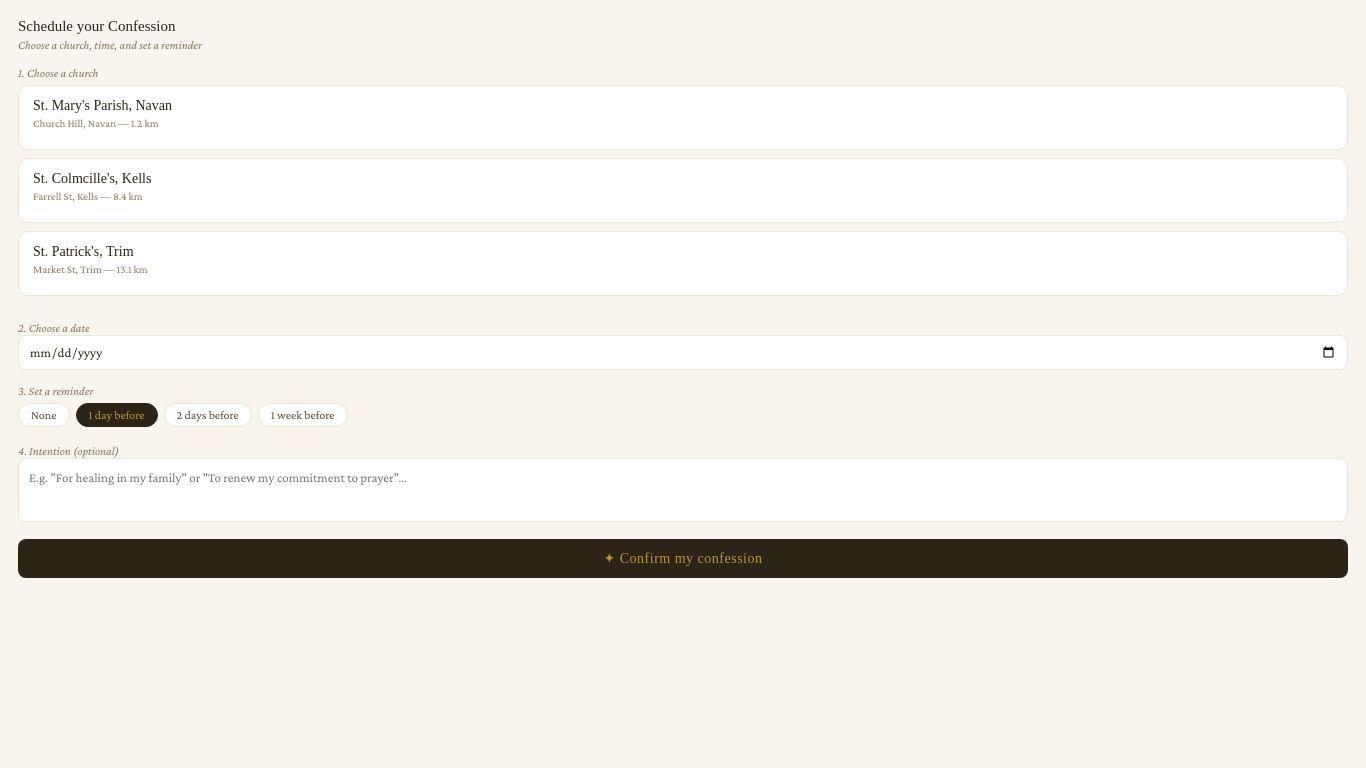
Test case: ScheduleScreen › shows error when confirming without a confession time slot
Click the text "St. Mary's Parish, Navan". click: click(102, 106)
box: x1=33 y1=98 x2=172 y2=113
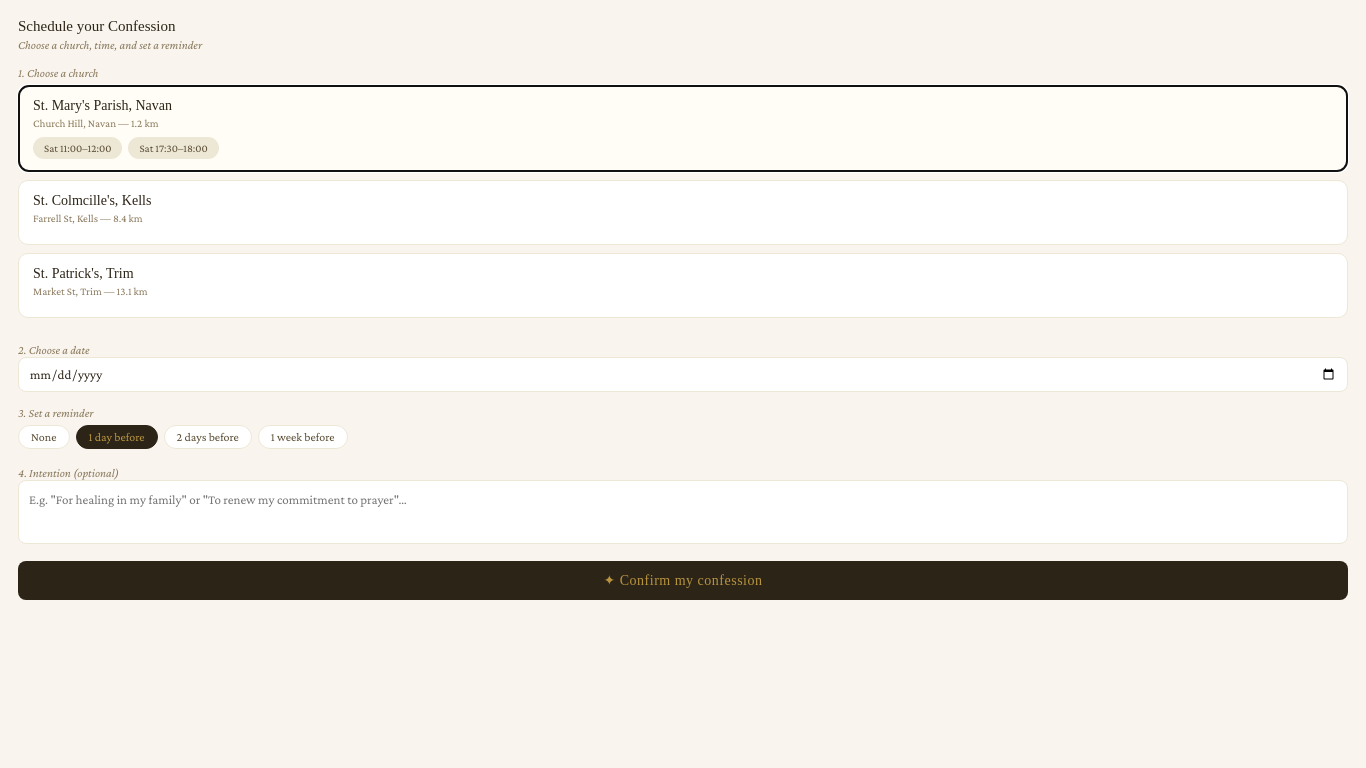
Click the button "✦ Confirm my confession". click: click(683, 580)
box: x1=18 y1=561 x2=1348 y2=600
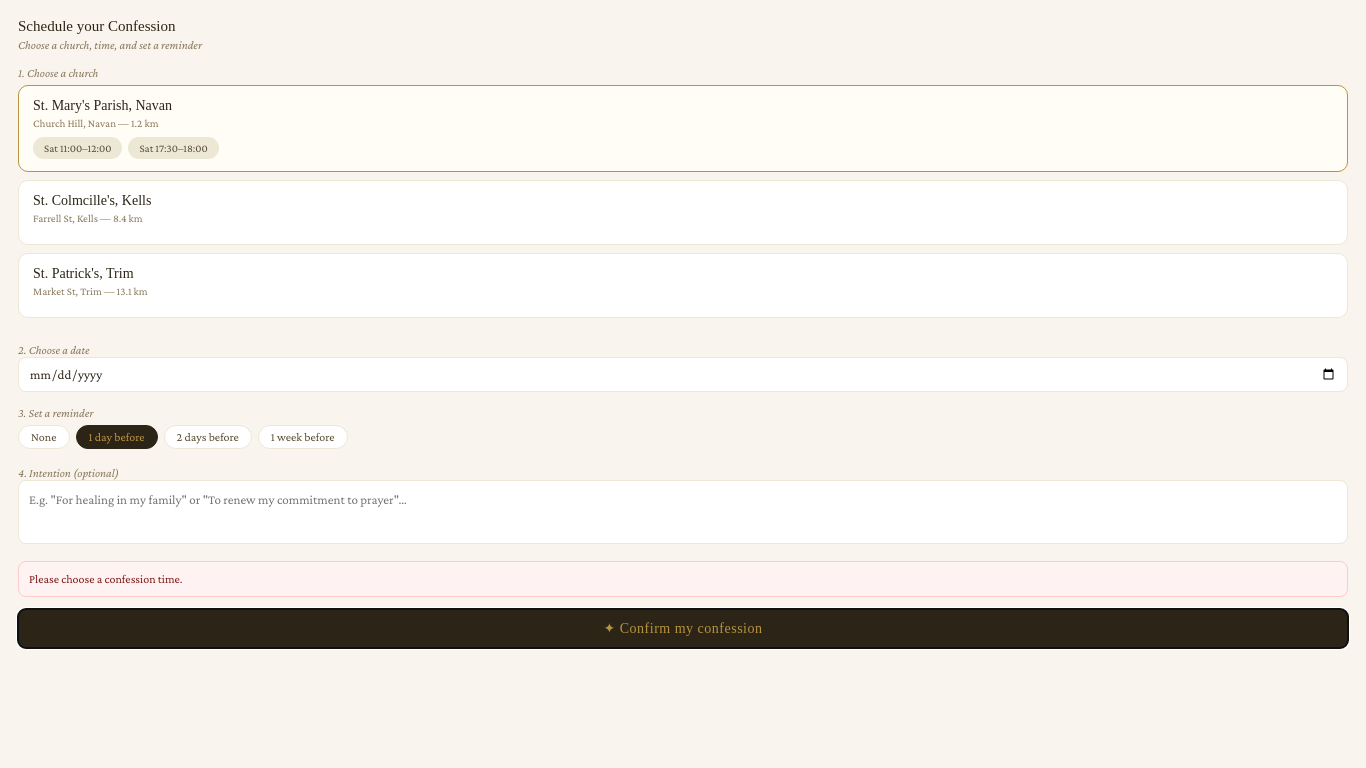
Expected: the text "Please choose a confession time." is shown, x1=18 y1=561 x2=1348 y2=597
